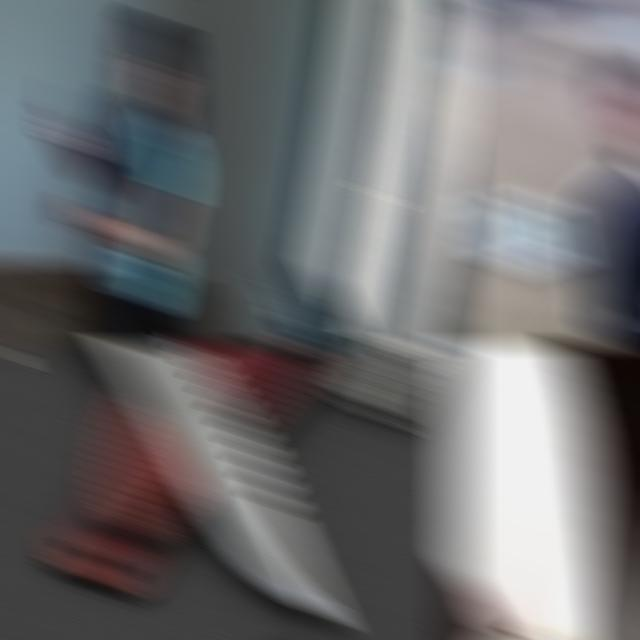Knife: (99, 342, 340, 622), (443, 346, 514, 640), (50, 80, 82, 130)
Knife_Handle: (443, 342, 640, 640), (38, 79, 100, 157)
